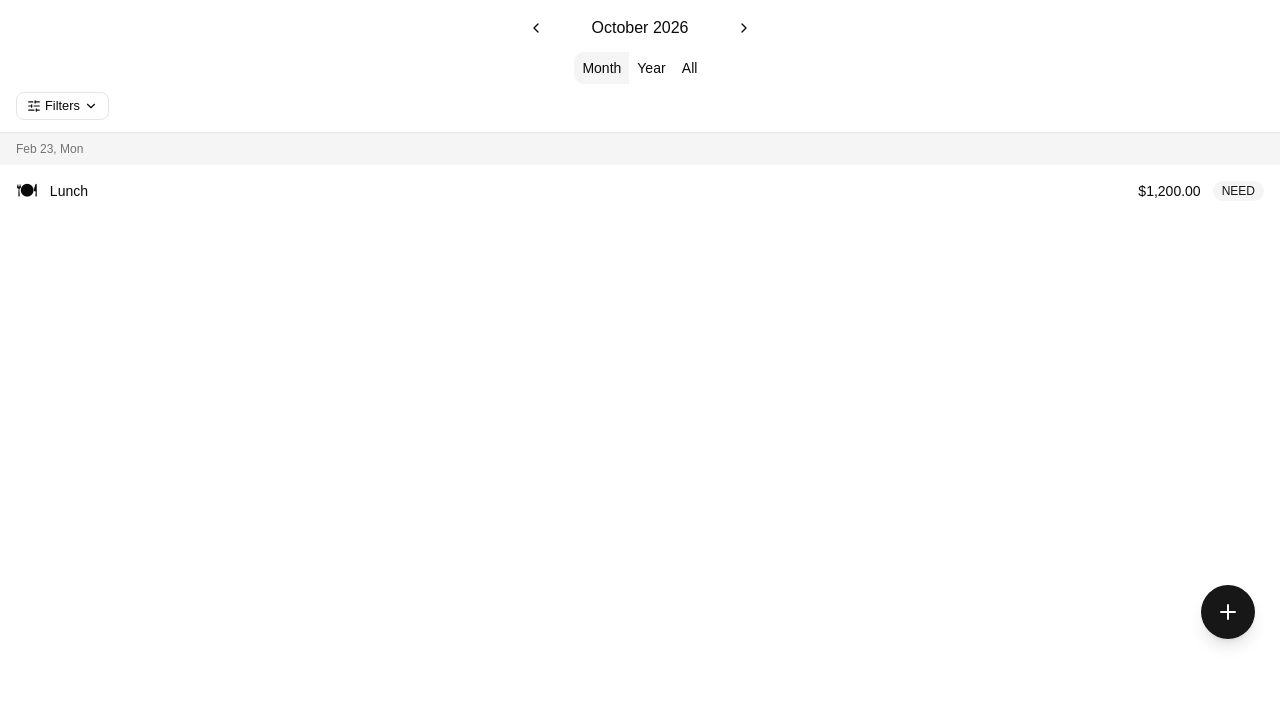
Test: TransactionsPage › opens the edit modal when a transaction row is clicked
The width and height of the screenshot is (1280, 720).
Click the button "🍽 Lunch $1,200.00 NEED" at (69,191), box [0,165,1279,217]
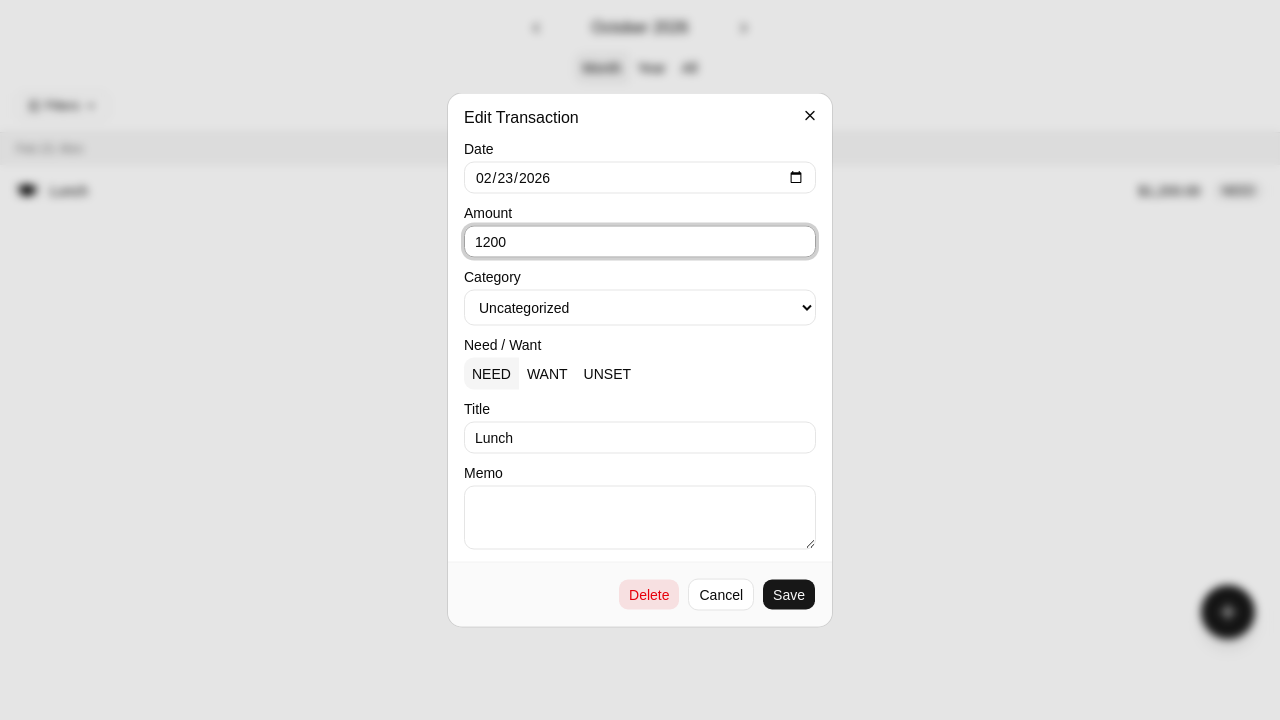
Result: the dialog "Edit Transaction" is shown at [448,94,832,626]
